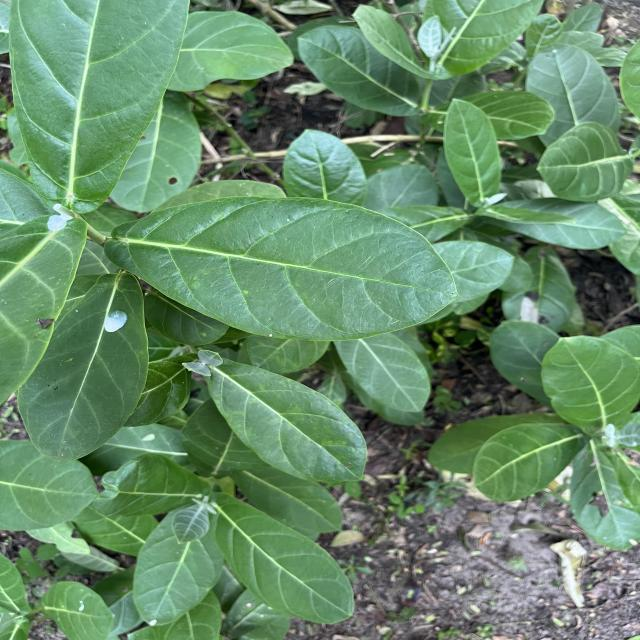Calotropis gigantea: (101, 194, 463, 343), (9, 0, 185, 207), (18, 271, 150, 463), (204, 356, 368, 484), (210, 495, 356, 625), (132, 500, 225, 628), (538, 335, 640, 435), (469, 419, 585, 503), (534, 120, 636, 204), (442, 95, 505, 205)
